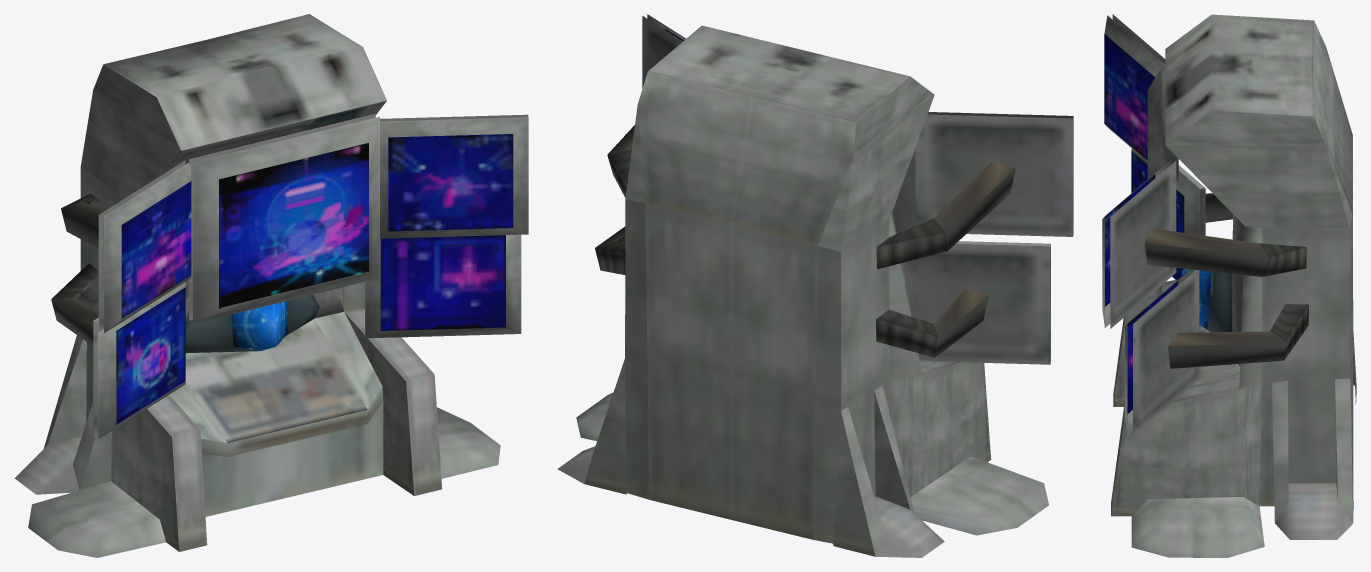
File: eqp_starship_mfg_station_m_s1_l3.fbx
The picture shows the model from 3 angles, left to right: view 1: azimuth 30°, elevation 25°; view 2: azimuth 150°, elevation 25°; view 3: azimuth 270°, elevation 25°; orthographic projection. The views are drawn at different scales.
Parts seen in each view (by area): view 1: mesh_node; view 2: mesh_node; view 3: mesh_node.
Part boxes in pixels (<box>): mesh_node: <box>14,14,528,557</box>; mesh_node: <box>557,14,1073,557</box>; mesh_node: <box>1102,14,1356,557</box>.
Size of the model in its own units: 3.53 by 3.14 by 1.84.
